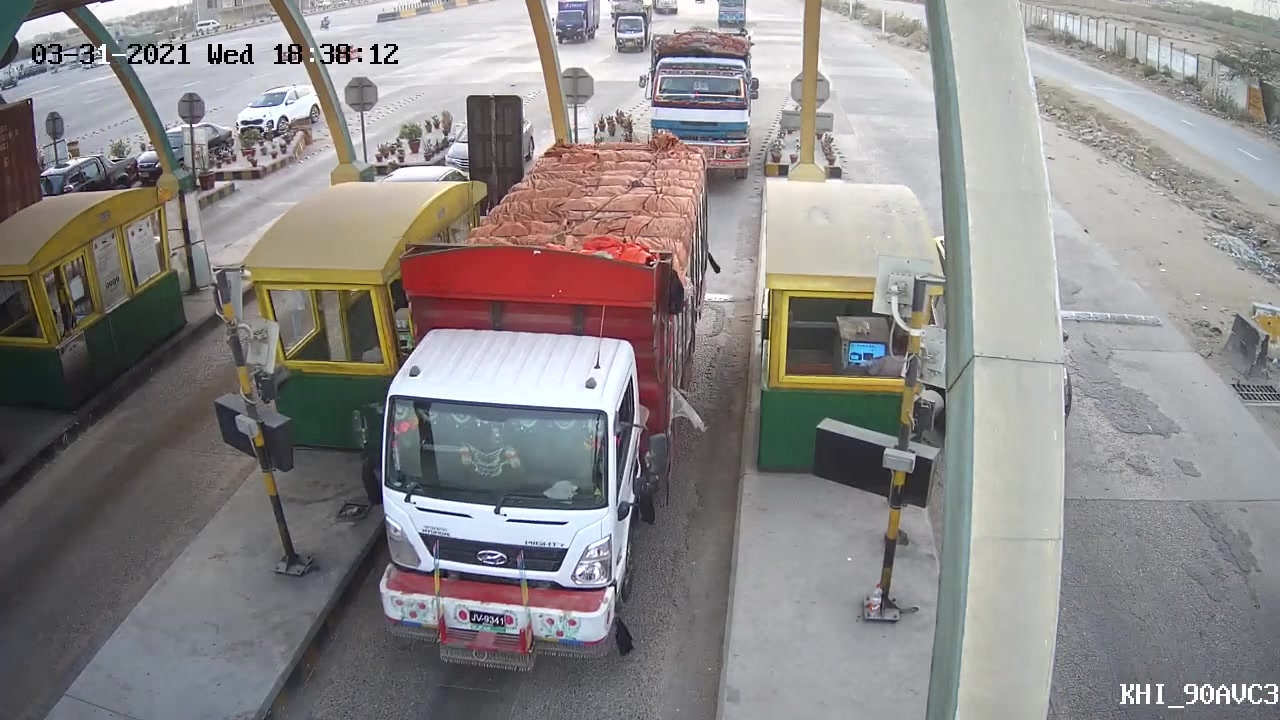F5: (353, 129, 715, 673)
